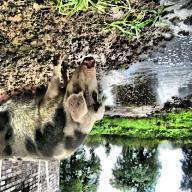boar: (0, 54, 106, 162)
